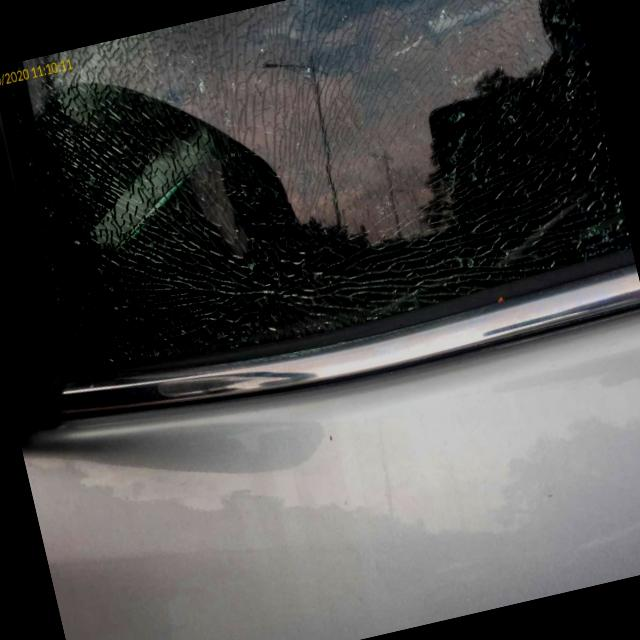Fissure: (53, 191, 287, 358), (475, 152, 627, 260), (10, 37, 142, 137), (162, 10, 264, 121)
